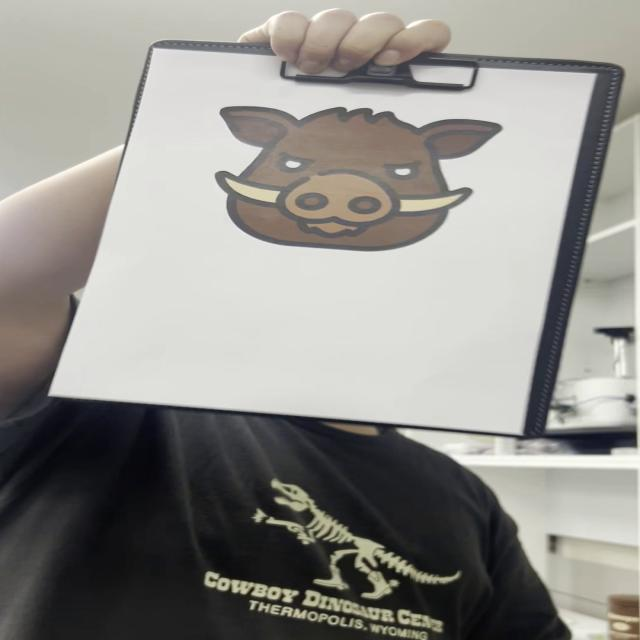animal: (214, 100, 509, 253)
